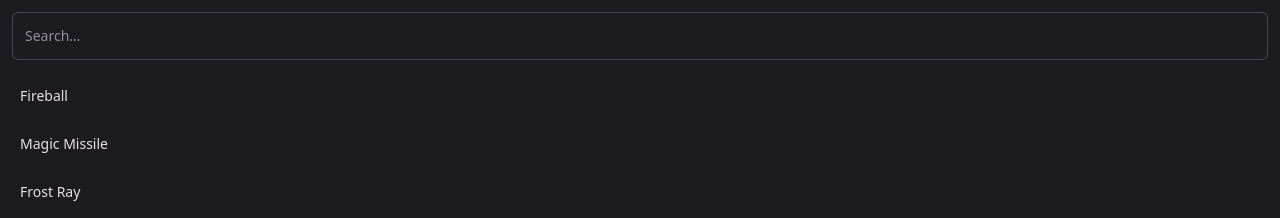
Test case: SearchList › shows the empty message when nothing matches
Type "zzz" into the search field with placeholder "Search…" at (640, 36), box top-left (12, 12), bottom-right (1268, 60)
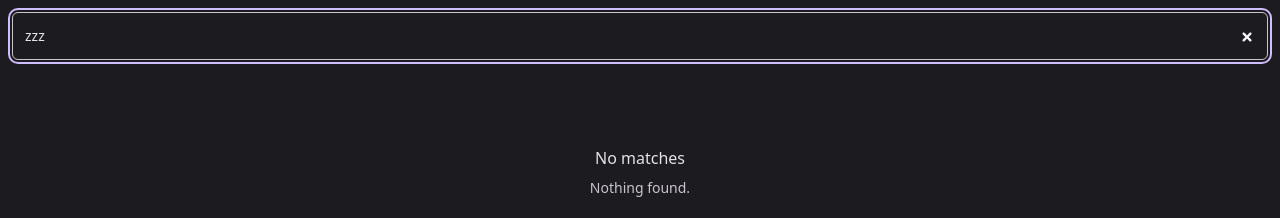
Check: the text "Nothing found." is shown, box top-left (590, 178), bottom-right (690, 198)
